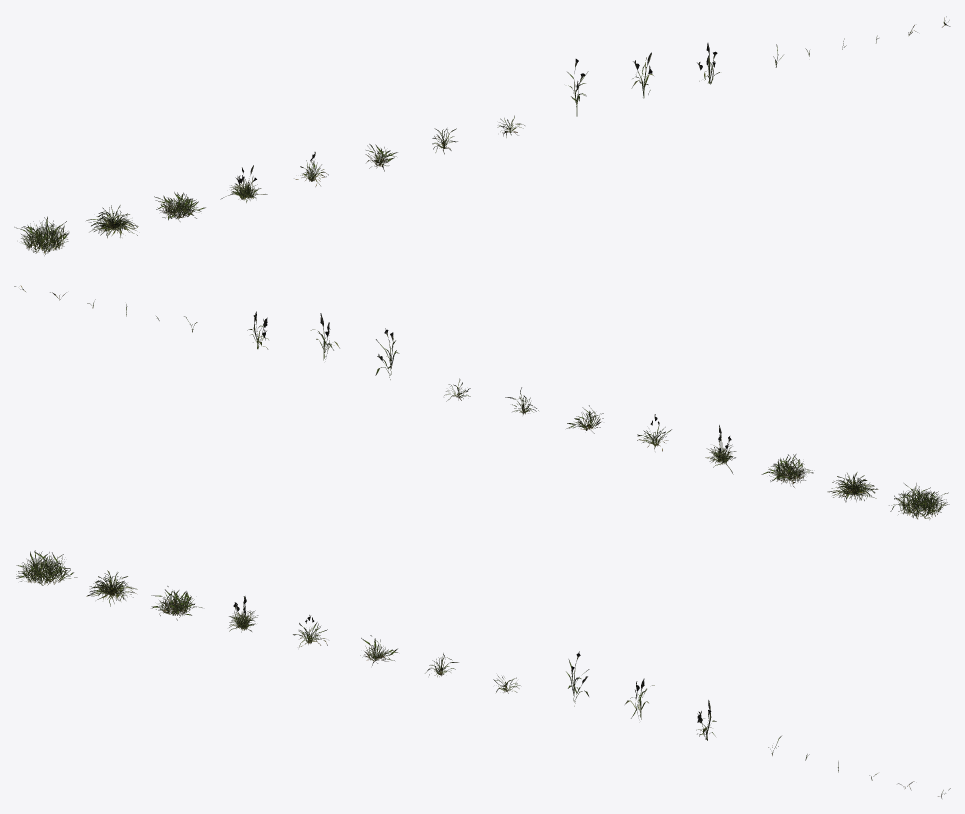
Rendered from grass_medium_01.glb.
The picture shows the model from 3 angles, top to bottom: view 1: azimuth 30°, elevation 25°; view 2: azimuth 150°, elevation 25°; view 3: azimuth 330°, elevation 25°; orthographic projection.
Parts seen in each view (by area): view 1: grass_medium_01_large_a_LOD0, grass_medium_01_large_b_LOD0, grass_medium_01_large_c_LOD0; view 2: grass_medium_01_large_a_LOD0, grass_medium_01_large_c_LOD0, grass_medium_01_large_b_LOD0; view 3: grass_medium_01_large_a_LOD0, grass_medium_01_large_b_LOD0, grass_medium_01_large_c_LOD0.
Boxes of the visible parts, x1=… form: grass_medium_01_large_a_LOD0: x1=14, y1=216, x2=69, y2=255; grass_medium_01_large_b_LOD0: x1=86, y1=205, x2=138, y2=238; grass_medium_01_large_c_LOD0: x1=154, y1=192, x2=205, y2=221; grass_medium_01_large_a_LOD0: x1=889, y1=483, x2=949, y2=519; grass_medium_01_large_c_LOD0: x1=761, y1=454, x2=813, y2=487; grass_medium_01_large_b_LOD0: x1=827, y1=472, x2=878, y2=502; grass_medium_01_large_a_LOD0: x1=16, y1=550, x2=77, y2=585; grass_medium_01_large_b_LOD0: x1=86, y1=570, x2=137, y2=606; grass_medium_01_large_c_LOD0: x1=151, y1=586, x2=202, y2=620.
Size of the model in its own units: 5.6 by 0.3428 by 0.3271.
Materials: 1 (1 with a texture image).
